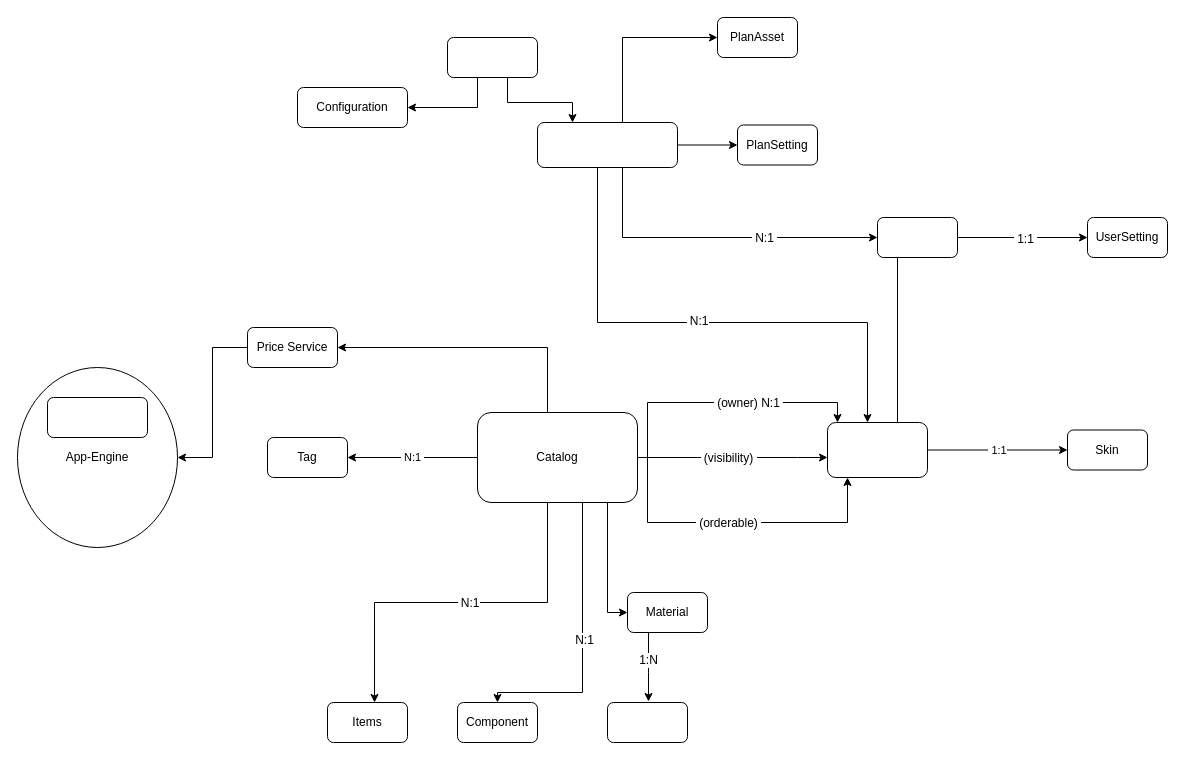
Image size: 1185x760. Some labels were removed from this diagram. The shapes that lost their labels are listed below. From the top down, each one's centre as x and y in pixels, then its label:
pixel 492 57: ShortId
pixel 607 145: Plan
pixel 917 237: User
pixel 97 417: Price Engine [ PriceList ]
pixel 877 450: Tenant
pixel 647 722: Texture
